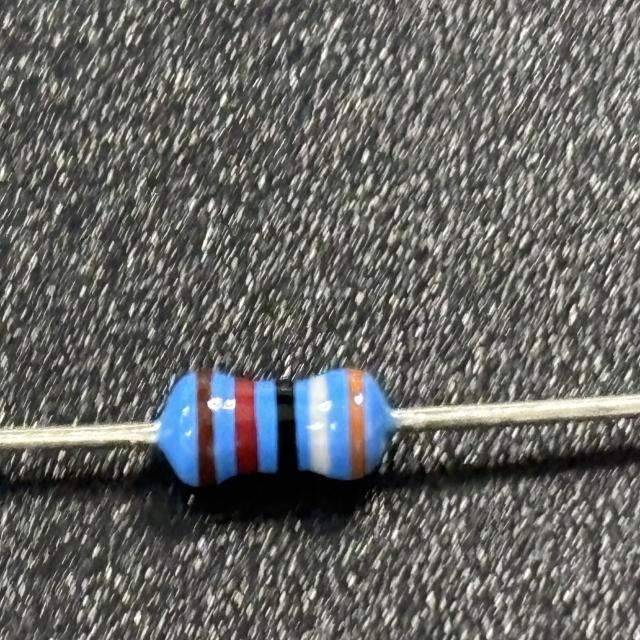resistor: (167, 359, 388, 491)
